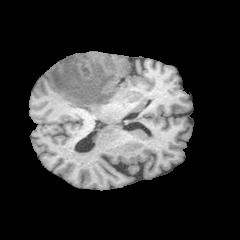glioma: (49, 52, 122, 108)
